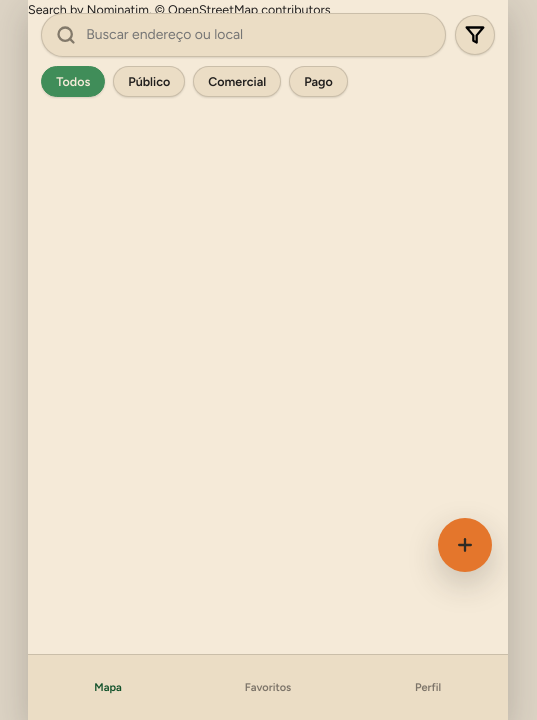
Scenario: App shows ProfileScreen when the Perfil tab is selected
The width and height of the screenshot is (537, 720).
Click the button "Perfil" at (428, 688), box [348, 655, 508, 719]
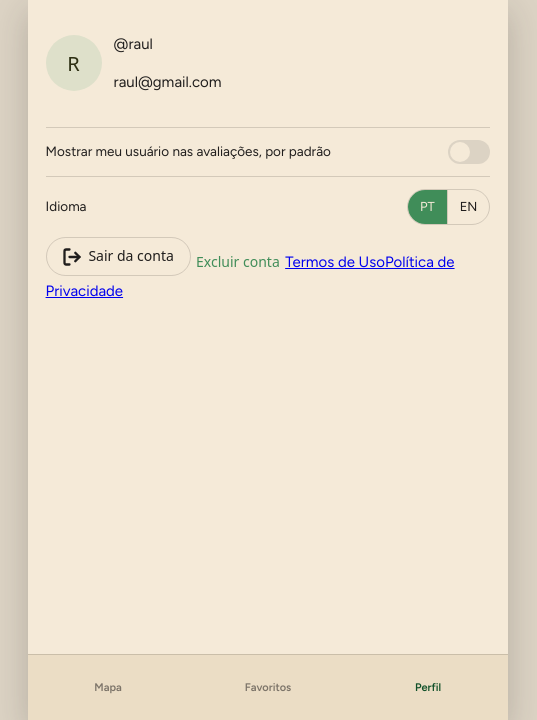
Expected: the text "@raul" is shown, [114, 35, 153, 53]
